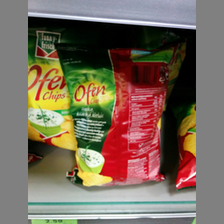chips: (65, 44, 168, 188)
